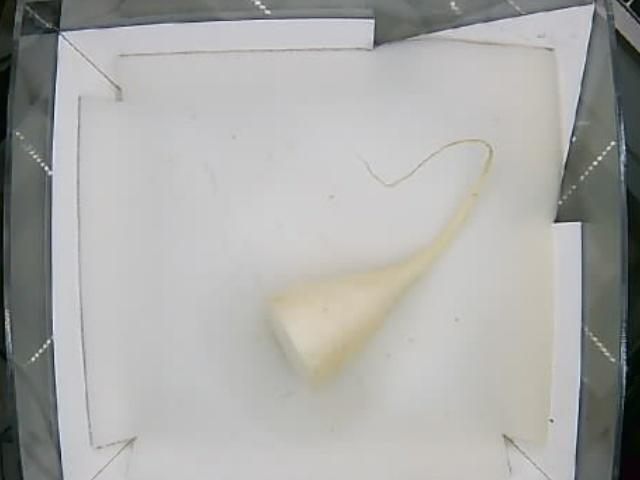Mooli: (269, 247, 435, 390)
